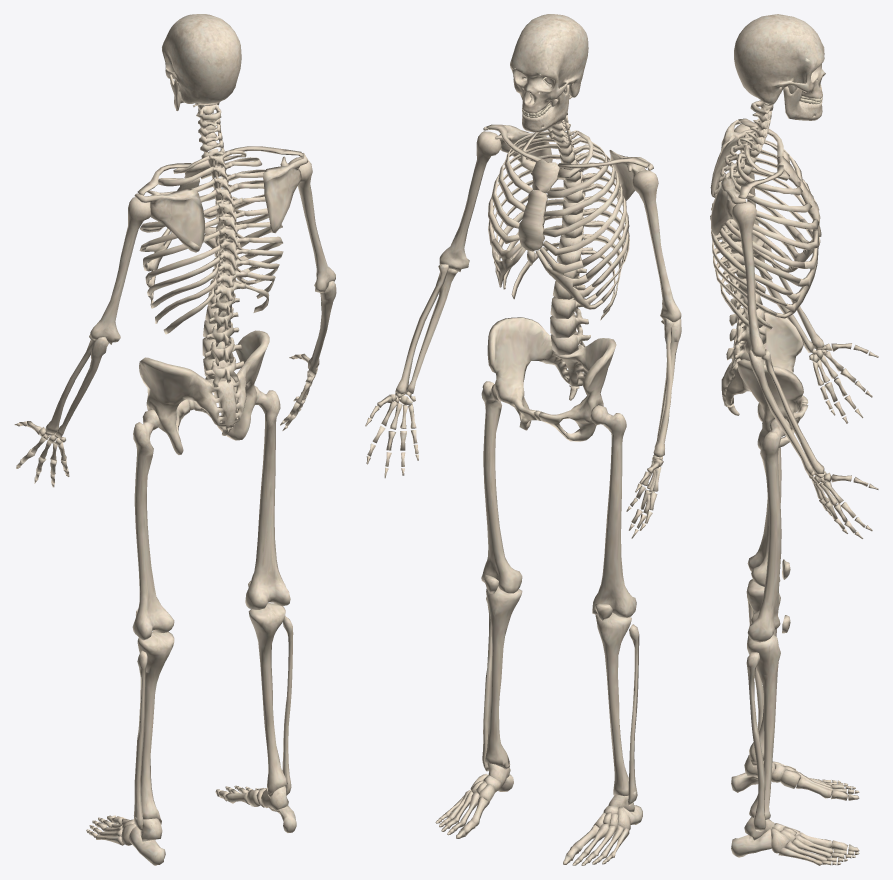
File: Skeleton.fbx
The picture shows the model from 3 angles, left to right: view 1: azimuth 30°, elevation 25°; view 2: azimuth 150°, elevation 25°; view 3: azimuth 270°, elevation 25°; orthographic projection.
Parts seen in each view (by area): view 1: Thoracic_Cage, MaleSkeletalHipLeftandSacrumGeo, Spine, Skull_Assets, MaleSkeletalFemurRightGeo, MaleSkeletalFemurLeftGeo, MaleSkeletalTibiaRightGeo, MaleSkeletalTibiaLeftGeo, MaleSkeletalHumerusLeftGeo, MaleSkeletalHumerusRightGeo, MaleSkeletalFibulaLeftGeo, MaleSkeletalFibulaRightGeo (+4 smaller); view 2: Thoracic_Cage, MaleSkeletalHipLeftandSacrumGeo, Skull_Assets, Spine, MaleSkeletalFemurLeftGeo, MaleSkeletalFemurRightGeo, MaleSkeletalTibiaRightGeo, MaleSkeletalTibiaLeftGeo, MaleSkeletalHumerusRightGeo, MaleSkeletalHumerusLeftGeo, Left_Foot_Metarsals, MaleSkeletalFibulaLeftGeo (+9 smaller); view 3: Thoracic_Cage, Skull_Assets, MaleSkeletalHipLeftandSacrumGeo, MaleSkeletalFemurRightGeo, Spine, MaleSkeletalTibiaRightGeo, MaleSkeletalHumerusRightGeo, MaleSkeletalFibulaRightGeo, MaleSkeletalUlnaRightGeo, Right_Foot_Metarsals, MaleSkeletalRadiusRightGeo, MaleSkeletalFemurLeftGeo (+13 smaller).
Boxes of the visible parts, bbox=[...] form: Thoracic_Cage: bbox=[134, 146, 308, 334]; MaleSkeletalHipLeftandSacrumGeo: bbox=[139, 330, 269, 454]; Spine: bbox=[193, 102, 249, 387]; Skull_Assets: bbox=[162, 14, 241, 110]; MaleSkeletalFemurRightGeo: bbox=[245, 386, 290, 609]; MaleSkeletalFemurLeftGeo: bbox=[132, 409, 174, 640]; MaleSkeletalTibiaRightGeo: bbox=[248, 603, 287, 798]; MaleSkeletalTibiaLeftGeo: bbox=[137, 631, 174, 824]; MaleSkeletalHumerusLeftGeo: bbox=[90, 197, 150, 344]; MaleSkeletalHumerusRightGeo: bbox=[288, 157, 335, 293]; MaleSkeletalFibulaLeftGeo: bbox=[133, 650, 147, 831]; MaleSkeletalFibulaRightGeo: bbox=[282, 616, 293, 795]; Thoracic_Cage: bbox=[483, 124, 653, 320]; MaleSkeletalHipLeftandSacrumGeo: bbox=[487, 317, 616, 441]; Skull_Assets: bbox=[510, 14, 588, 132]; Spine: bbox=[548, 94, 595, 355]; MaleSkeletalFemurLeftGeo: bbox=[590, 405, 636, 617]; MaleSkeletalFemurRightGeo: bbox=[481, 381, 522, 593]; MaleSkeletalTibiaRightGeo: bbox=[484, 586, 522, 769]; MaleSkeletalTibiaLeftGeo: bbox=[595, 613, 631, 795]; MaleSkeletalHumerusRightGeo: bbox=[439, 131, 501, 271]; MaleSkeletalHumerusLeftGeo: bbox=[632, 170, 681, 322]; Left_Foot_Metarsals: bbox=[573, 824, 629, 857]; MaleSkeletalFibulaLeftGeo: bbox=[628, 624, 639, 805]; Thoracic_Cage: bbox=[710, 118, 821, 335]; Skull_Assets: bbox=[734, 14, 825, 120]; MaleSkeletalHipLeftandSacrumGeo: bbox=[721, 312, 808, 449]; MaleSkeletalFemurRightGeo: bbox=[747, 419, 790, 642]; Spine: bbox=[710, 98, 773, 368]; MaleSkeletalTibiaRightGeo: bbox=[747, 634, 780, 819]; MaleSkeletalHumerusRightGeo: bbox=[731, 201, 765, 357]; MaleSkeletalFibulaRightGeo: bbox=[746, 652, 765, 831]; MaleSkeletalUlnaRightGeo: bbox=[748, 350, 812, 475]; Right_Foot_Metarsals: bbox=[778, 832, 833, 865]; MaleSkeletalRadiusRightGeo: bbox=[761, 349, 824, 473]; MaleSkeletalFemurLeftGeo: bbox=[747, 447, 781, 586].
Size of the model in its own units: 799 by 2177 by 413.
Materials: 2 (2 with a texture image).
